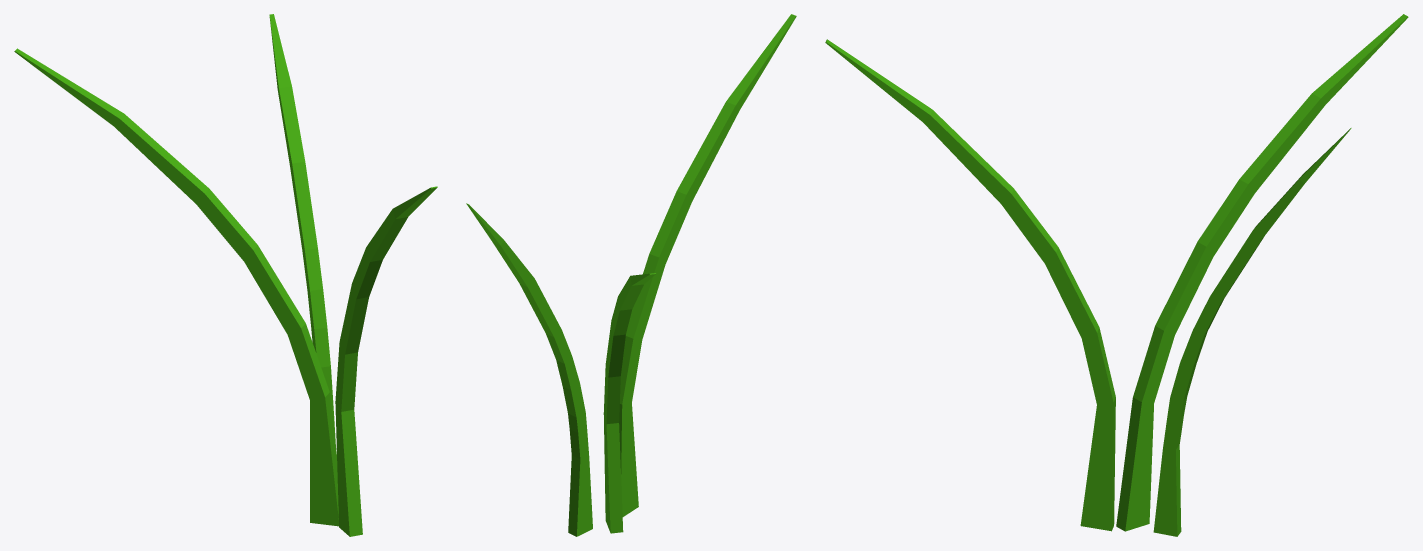
Rendered from Grass.obj.
3 renders of one model, left to right at view 1: azimuth 30°, elevation 25°; view 2: azimuth 150°, elevation 25°; view 3: azimuth 270°, elevation 25°, orthographic. The views are drawn at different scales.
Visible parts, largest first — view 1: GN3-material.005; view 2: GN3-material.005; view 3: GN3-material.005.
Part boxes in pixels (x1,y1,x2,y2): GN3-material.005: [14, 14, 437, 536]; GN3-material.005: [466, 14, 796, 536]; GN3-material.005: [825, 14, 1408, 536].
Bounding box in the file's own units: 0.0815 × 0.1527 × 0.1742.
